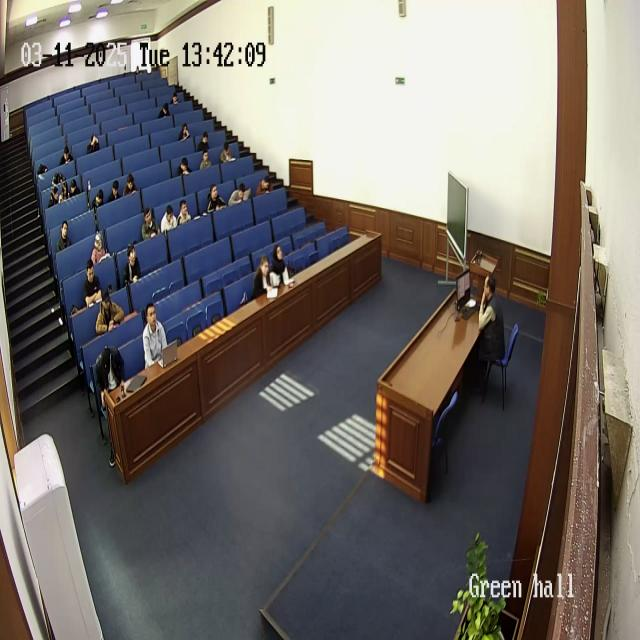person: (94, 344, 128, 458), (475, 273, 507, 379), (142, 301, 168, 369), (95, 291, 125, 335), (252, 255, 276, 301), (269, 244, 293, 287), (82, 259, 103, 305), (124, 243, 142, 286), (90, 232, 110, 267), (206, 184, 226, 213), (140, 208, 158, 240), (56, 220, 74, 252), (228, 180, 250, 206), (160, 204, 178, 234), (256, 174, 276, 196), (176, 200, 192, 226), (88, 188, 104, 212), (123, 172, 139, 196), (48, 180, 62, 207), (60, 142, 75, 166), (220, 142, 236, 164), (67, 175, 81, 198), (108, 180, 122, 202), (198, 149, 212, 171), (86, 133, 100, 155), (177, 156, 190, 177), (199, 132, 211, 152), (180, 123, 192, 142), (158, 102, 170, 118), (170, 90, 180, 108)
